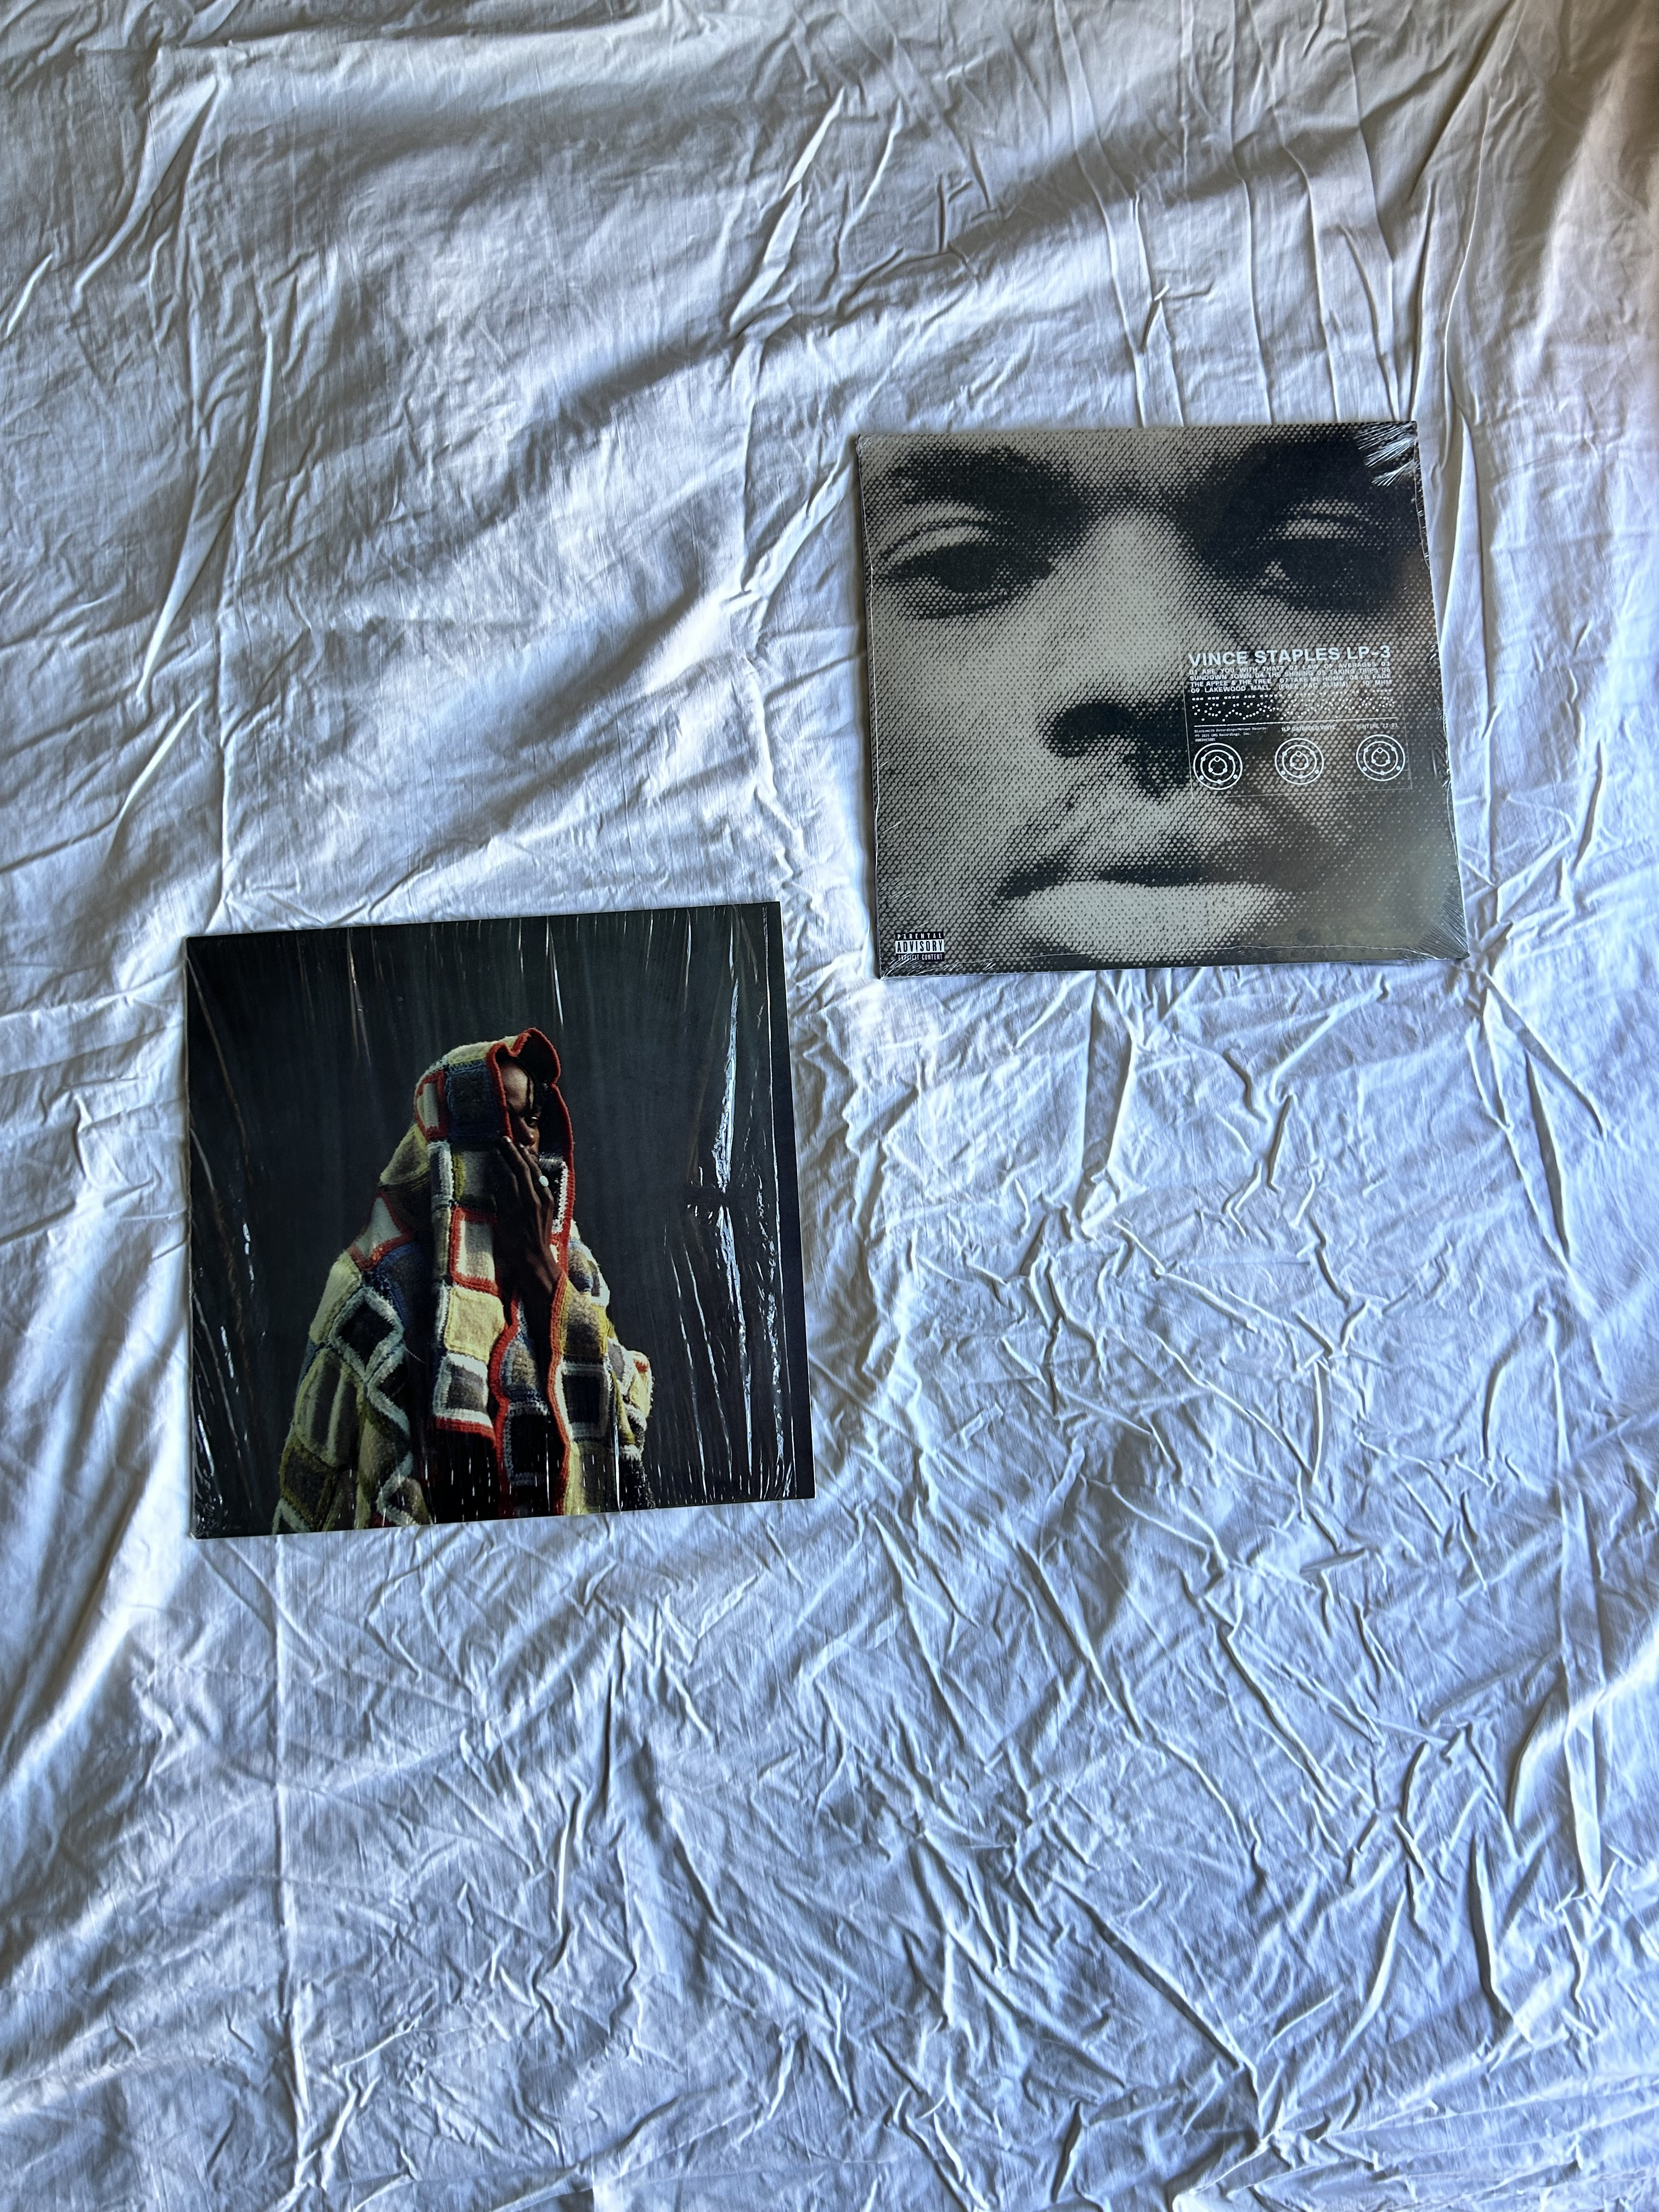elujay_circumvnt: (169, 927, 791, 1540)
vince staples_vince staples: (843, 425, 1445, 991)
